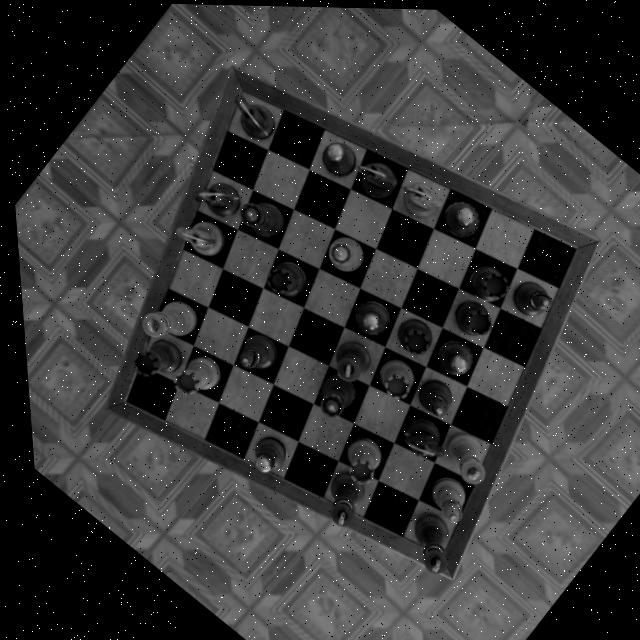chessboard: (118, 89, 572, 553)
